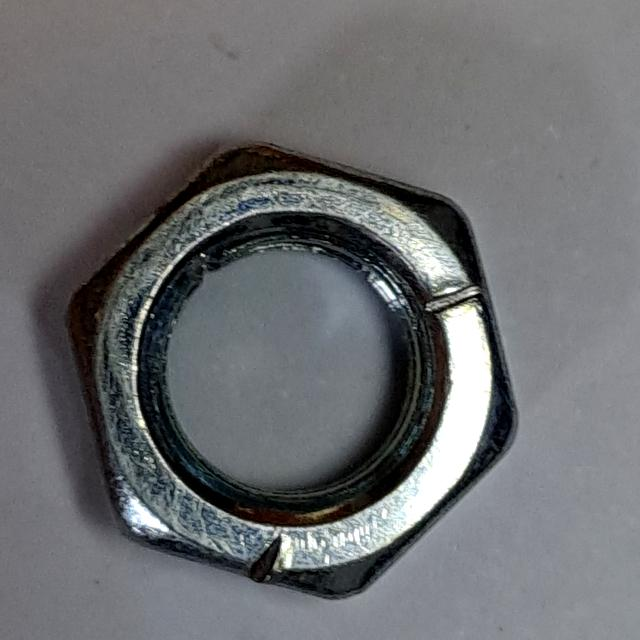Scratches: (53, 122, 538, 619)
